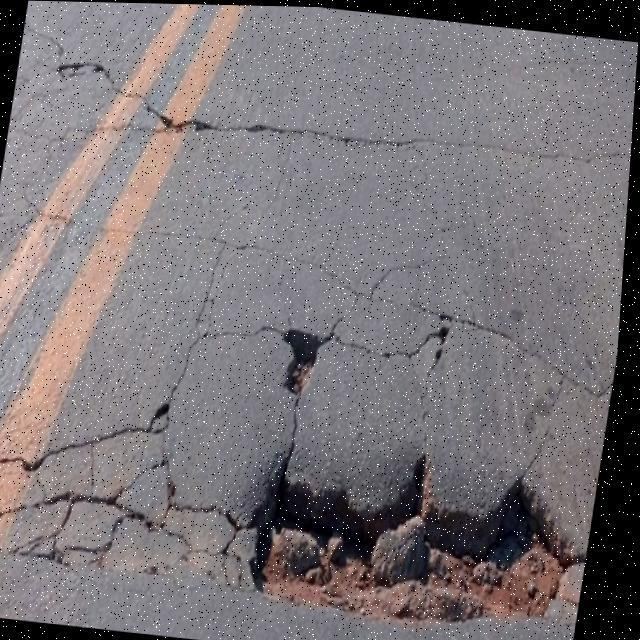pothole: (226, 425, 602, 640)
